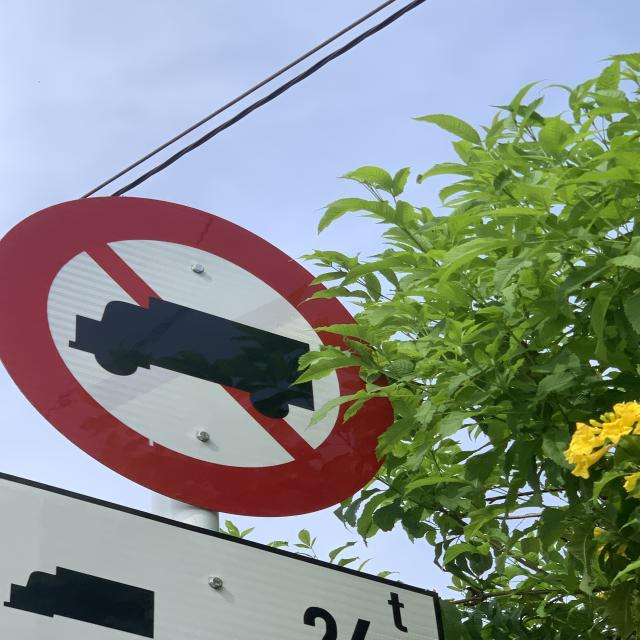Cam_Xe_Tai: (1, 186, 400, 516)
